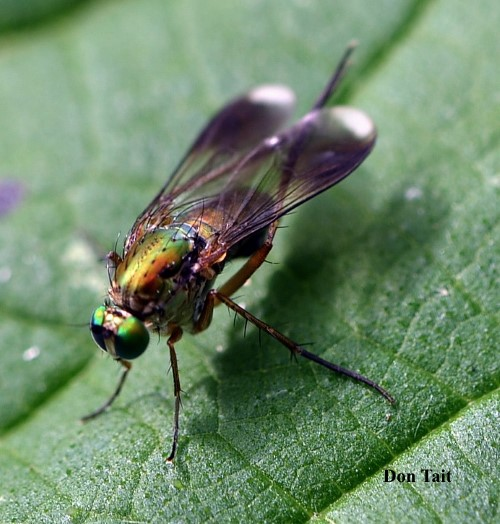green bottles flies: (71, 35, 392, 473)
